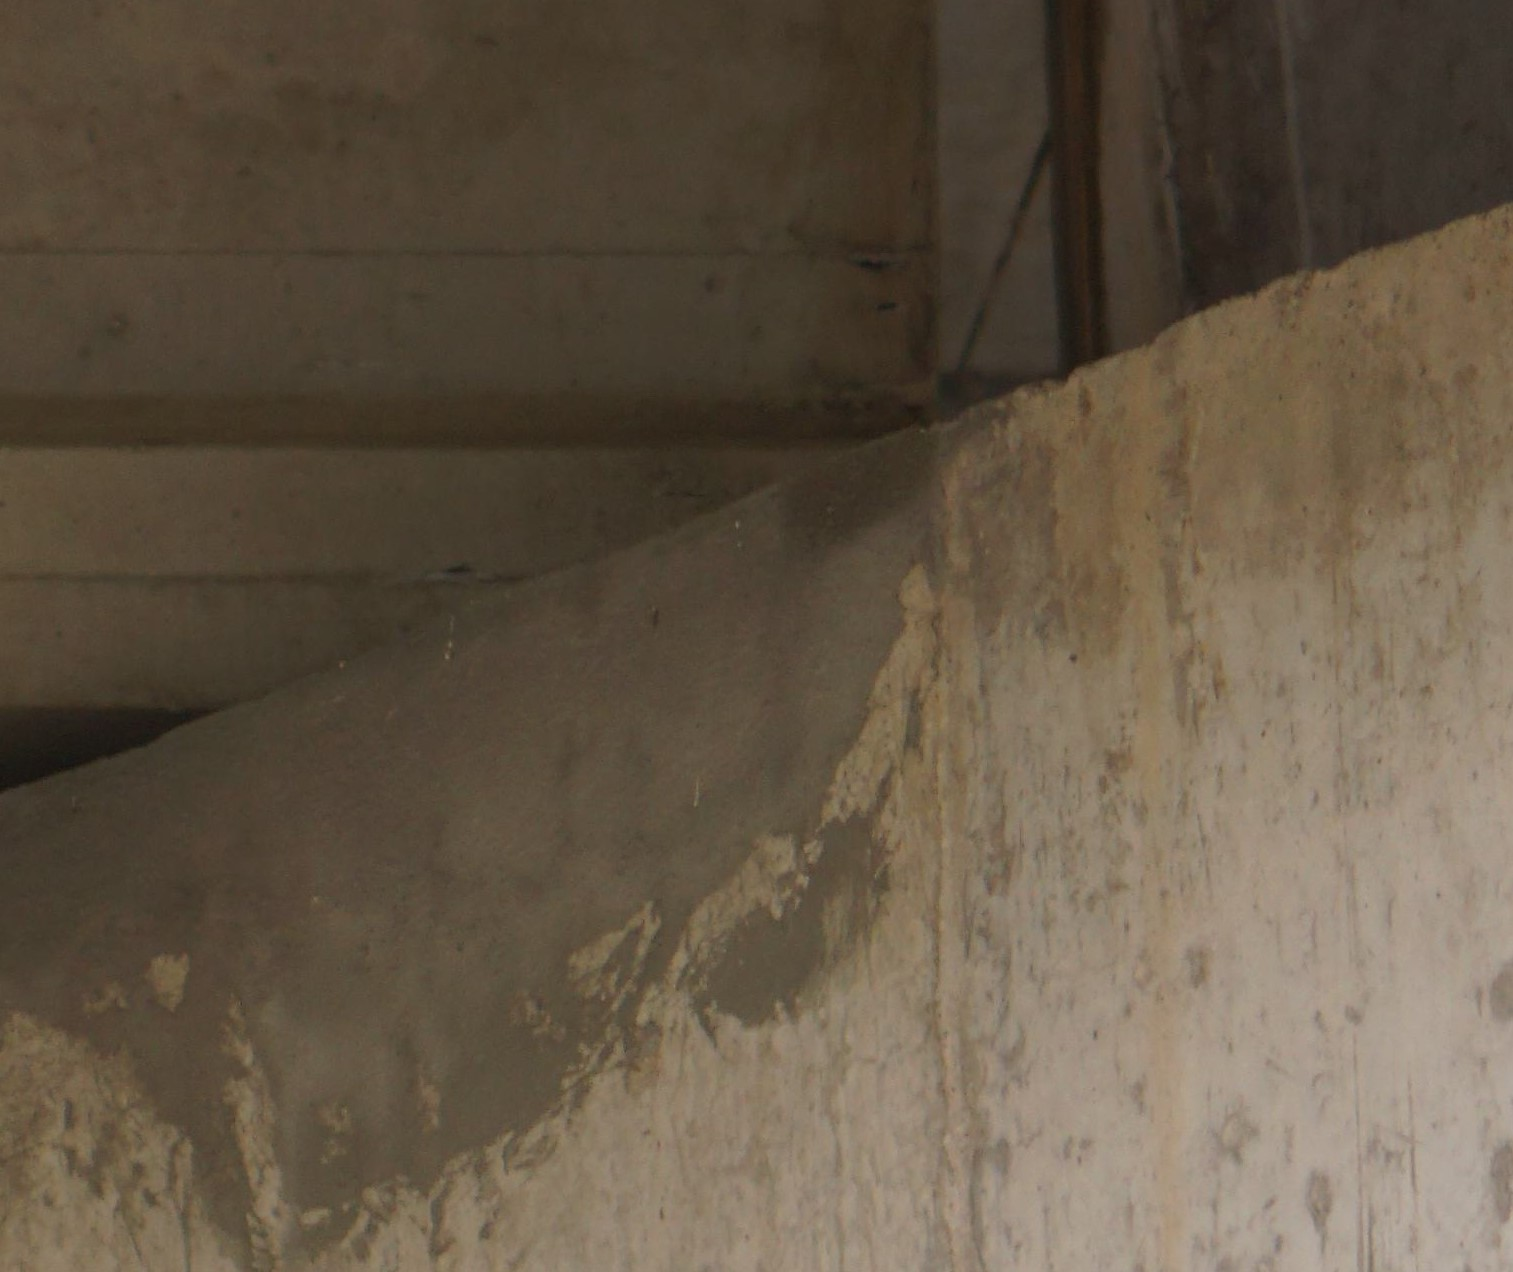Spalling: (1, 423, 953, 1272)
